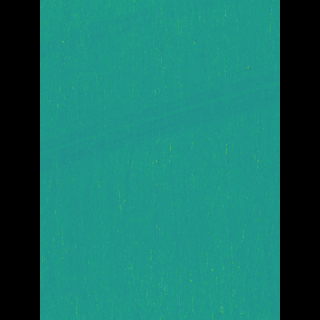Loch: (69, 52, 251, 180), (71, 0, 226, 62)
